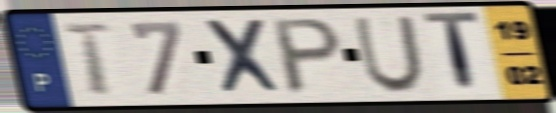7: (127, 18, 187, 99)
P: (271, 15, 346, 98)
T: (420, 9, 483, 97), (59, 21, 118, 98)
U: (350, 13, 427, 95)
X: (199, 16, 289, 98)
